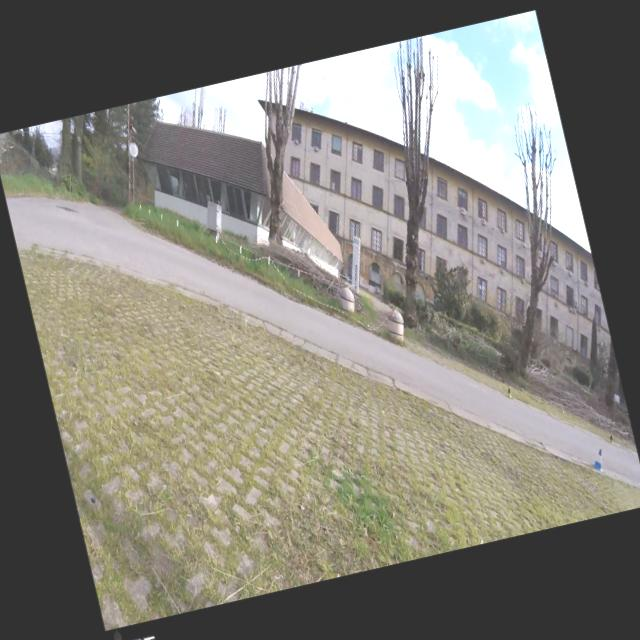blue_cone: (588, 448, 606, 473)
yellow_cone: (503, 384, 512, 399)
